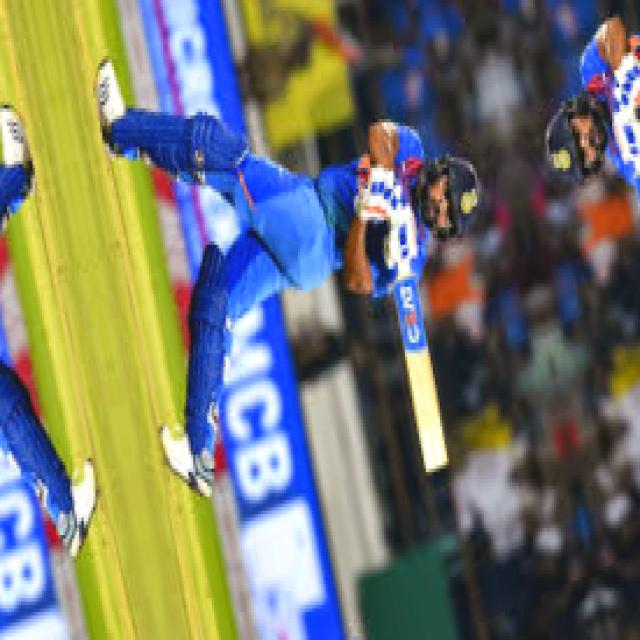toe: (420, 433, 452, 482)
